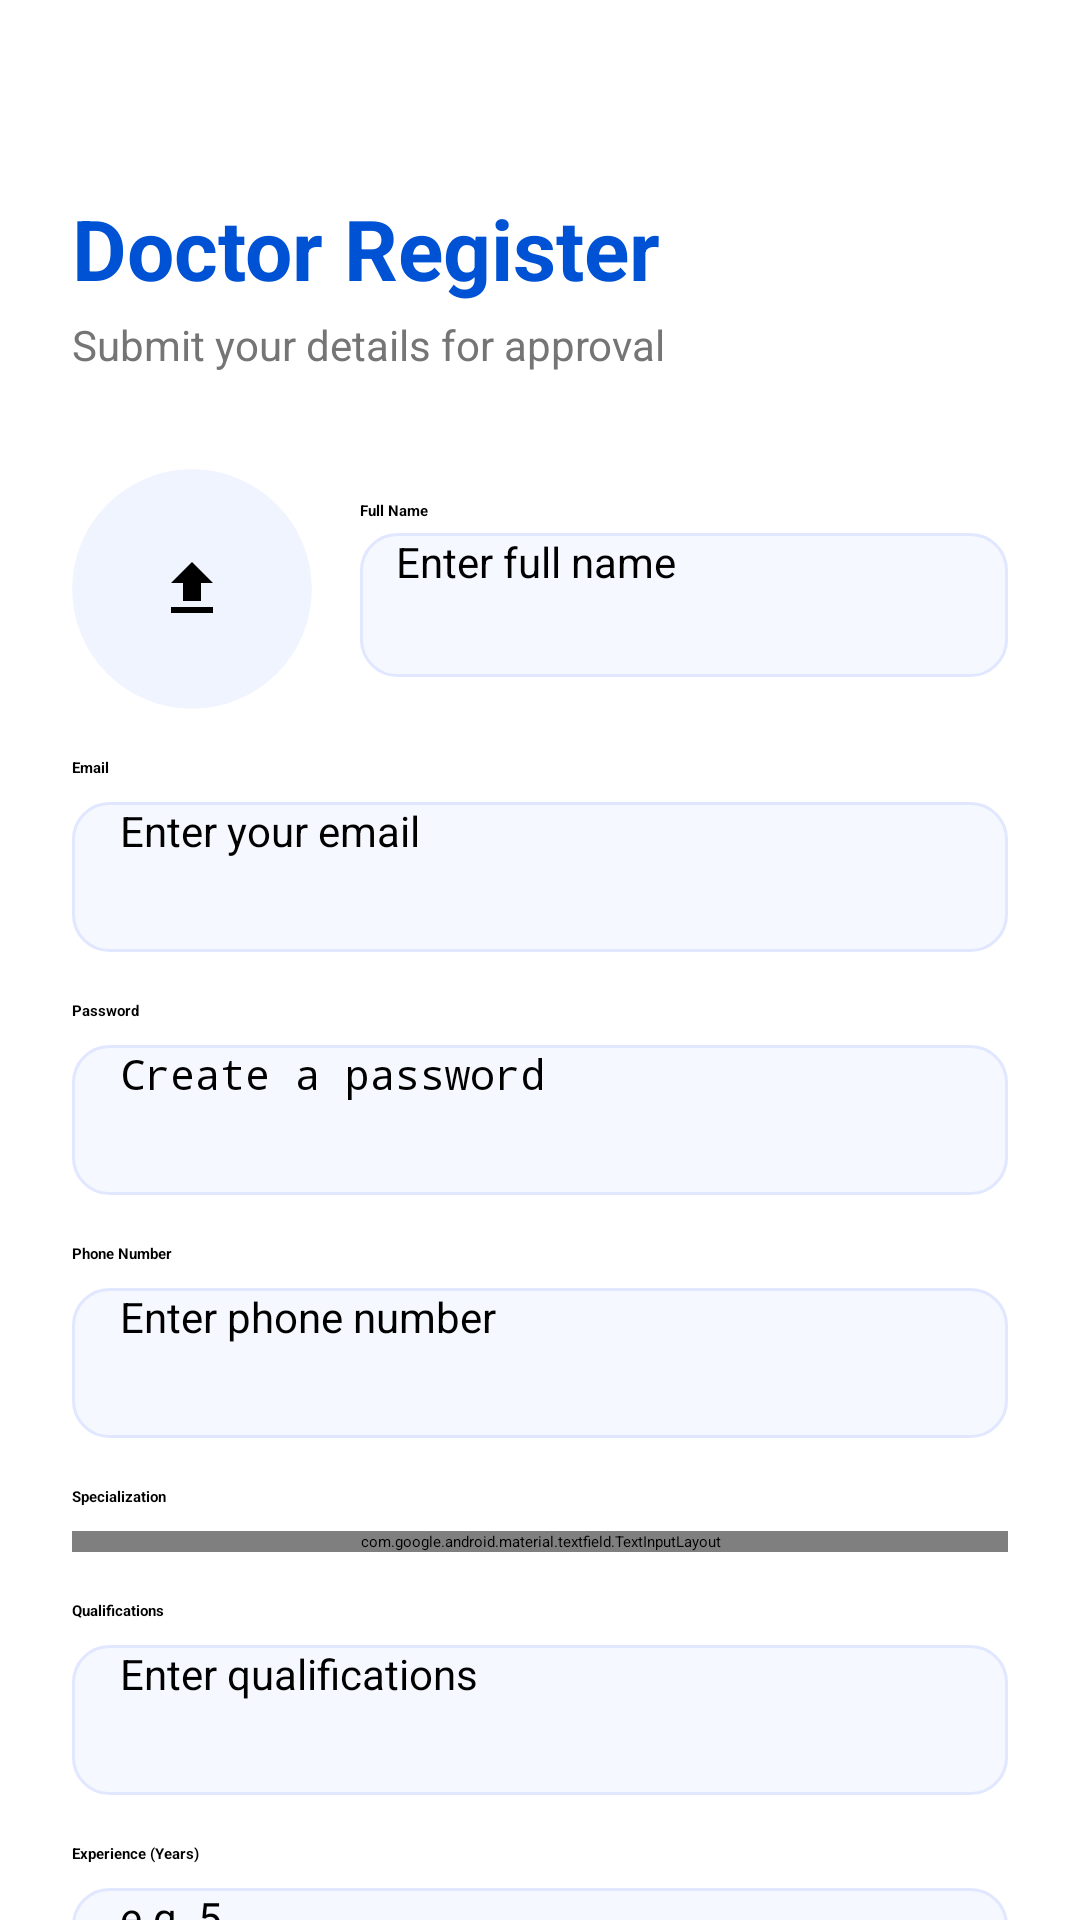

Locate icon controls on the screen. Image size 1080 x 1920, boxes as [left=x1, top=y1, right=x2, bottom=y2].
upload photo: [left=72, top=469, right=312, bottom=709]
